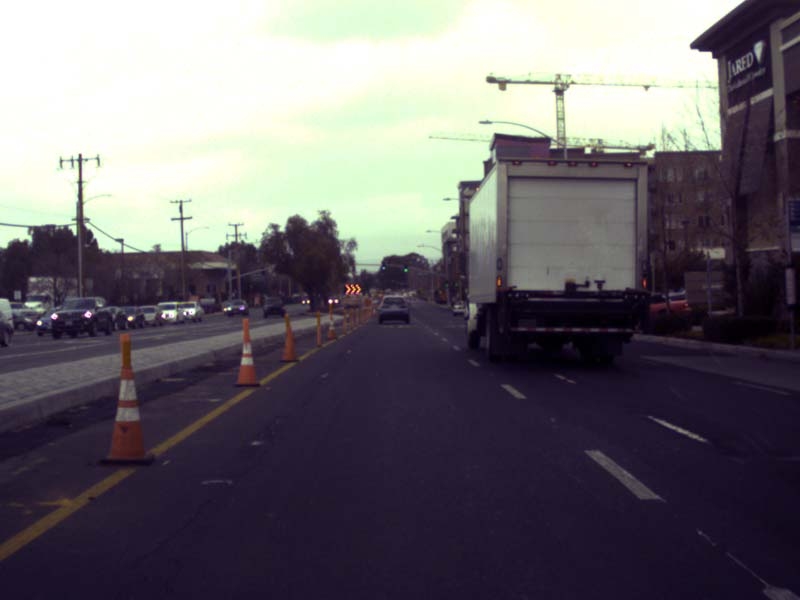Green: (444, 278, 449, 287), (381, 261, 385, 269), (454, 279, 458, 287), (404, 264, 407, 272)
Red: (352, 263, 355, 271)
